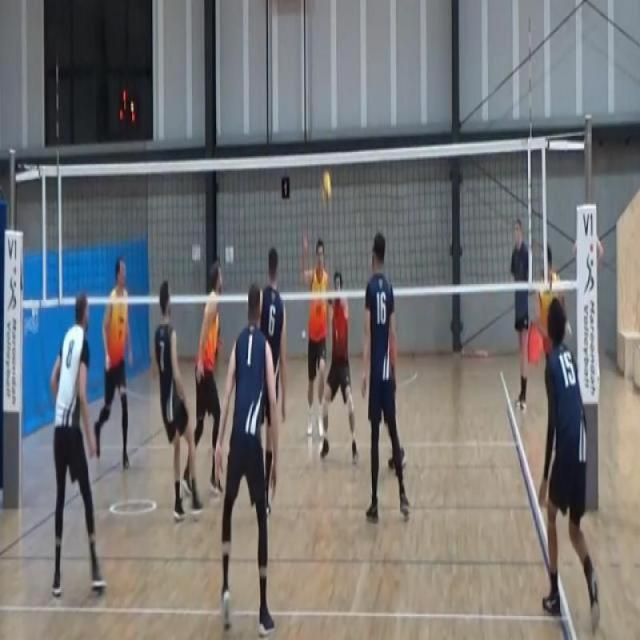volleyball: (318, 168, 333, 209)
